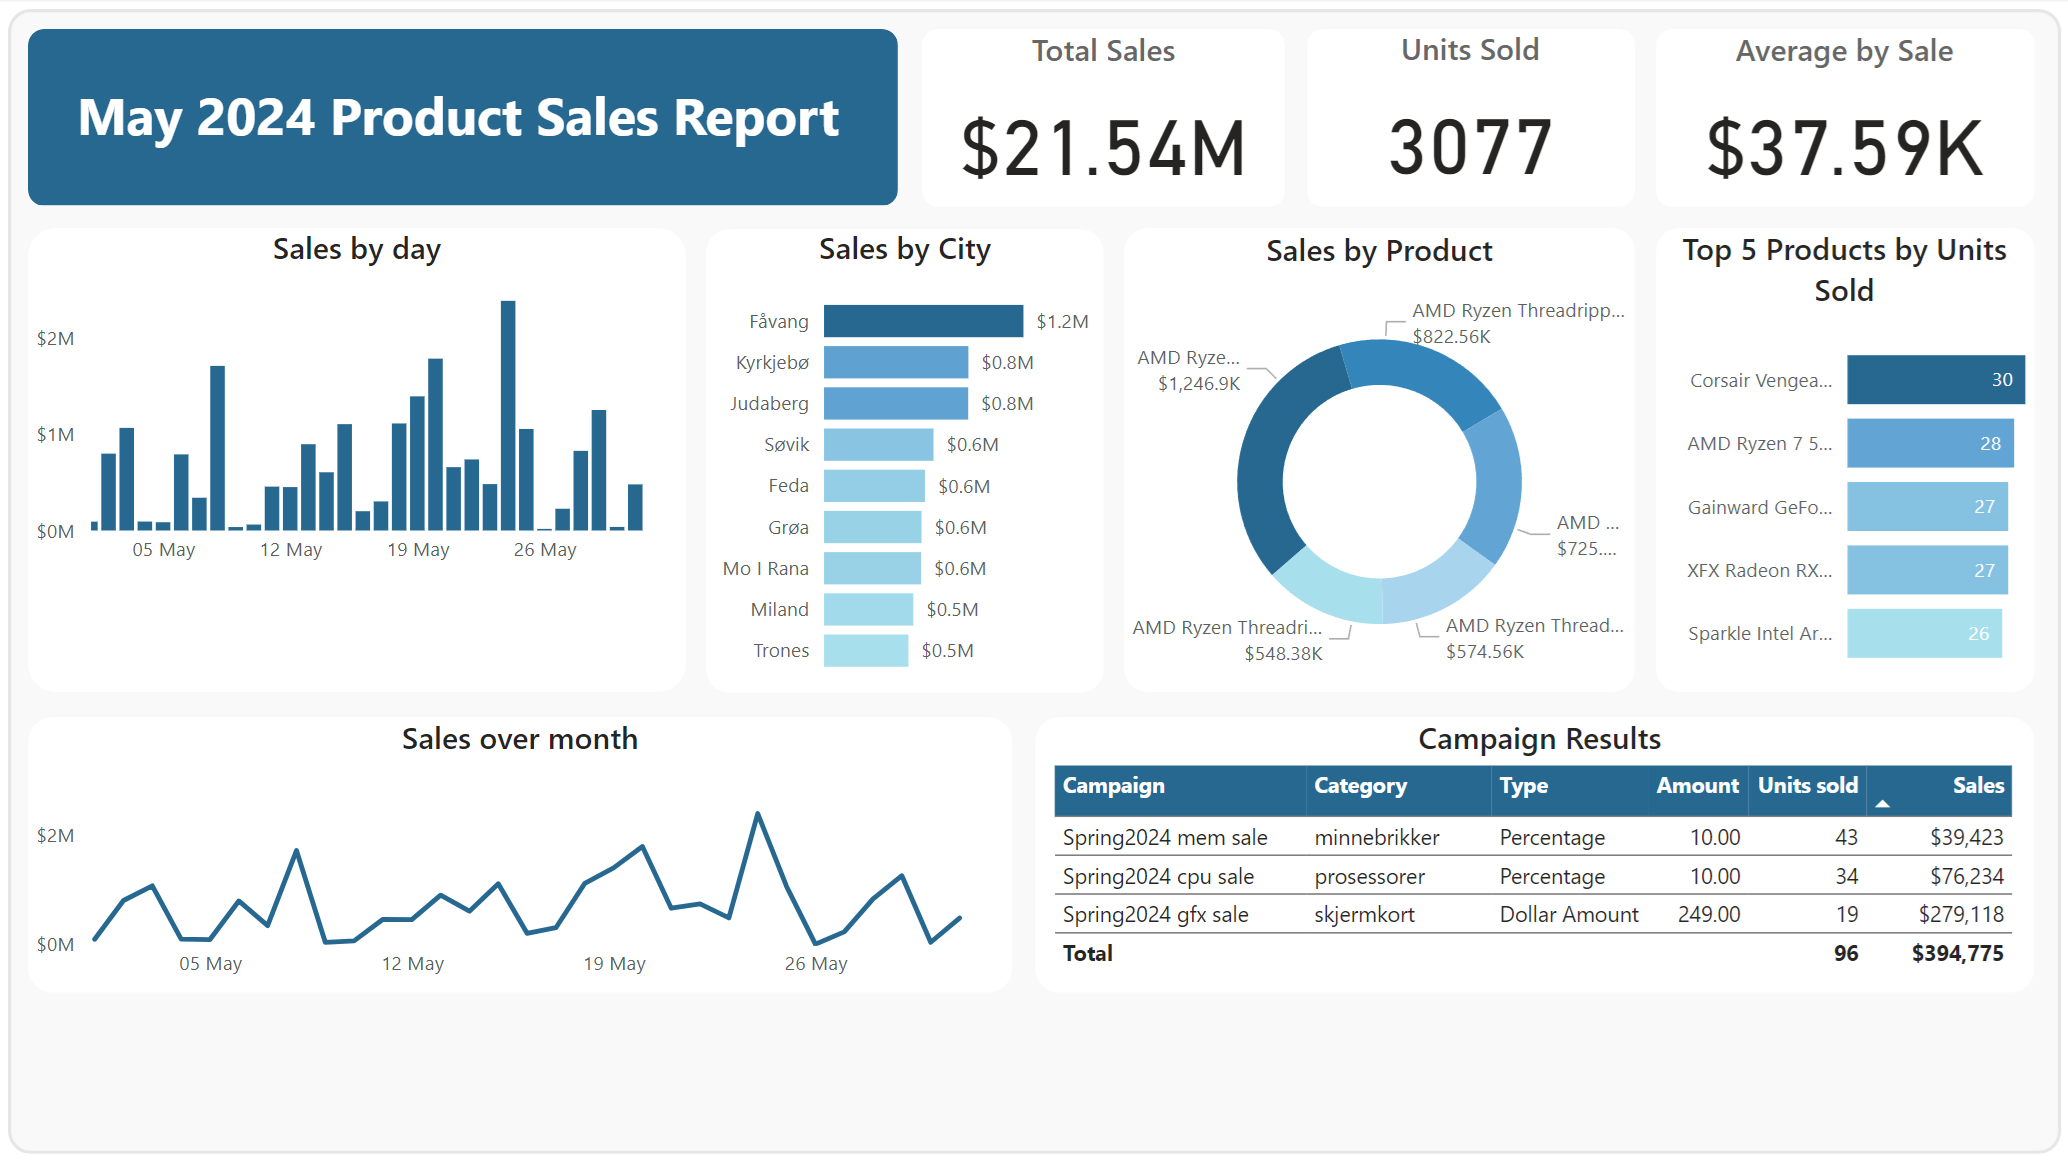

The dashboard page shown, as its layout file describes it:
{"tool":"powerbi","page":{"name":"Overview","canvas":[1280,720],"ordinal":0},"visuals":[{"type":"shape","box":[4.9,5.6,1269.9,710.1],"z":0},{"type":"shape","box":[1028,16.7,235.7,112],"z":500},{"type":"shape","box":[779.4,16.7,235.7,112],"z":750},{"type":"shape","box":[528.9,16.7,235.7,112],"z":875},{"type":"card","title":"Total Sales","fields":{"Values":["Sum(public fact_product_sale.extended_sales_amount)"]},"box":[528.9,16.7,235.7,112],"z":1000},{"type":"card","title":"Units Sold","fields":{"Values":["Sum(public fact_product_sale.quantity)"]},"box":[779.4,16.7,235.7,112],"z":2000},{"type":"card","title":"Average Sales","fields":{"Values":["Avg(public fact_product_sale.extended_sales_amount)"]},"box":[1028,16.7,235.7,112],"z":3000},{"type":"shape","box":[17.8,16.5,496.9,112.3],"z":3500},{"type":"slicer","fields":{"Values":["public dim_date.date.Variation.Date Hierarchy.Year"]},"box":[17.9,27.8,210.3,89.7],"z":4000},{"type":"slicer","fields":{"Values":["public dim_date.date.Variation.Date Hierarchy.Month"]},"box":[243.7,27.8,210.9,89.7],"z":5000},{"type":"shape","box":[467.6,139.2,236.3,287.6],"z":6000},{"type":"clusteredBarChart","title":"Sales by City","fields":{"Category":["public dim_location.city_name"],"Y":["Sum(public fact_product_sale.extended_sales_amount)"]},"box":[467.6,139.8,236.3,287.6],"z":7000},{"type":"shape","box":[1027.4,139.8,236.3,287.6],"z":8000},{"type":"shape","box":[716.9,139.2,298.1,287.6],"z":9000},{"type":"donutChart","title":"Sales by Product","fields":{"Category":["public dim_product.product_name"],"Y":["Sum(public fact_product_sale.extended_sales_amount)"]},"box":[716.9,140.4,298.1,287.6],"z":10000},{"type":"shape","box":[17.9,139.2,436.7,287.6],"z":11000},{"type":"clusteredBarChart","title":"Top 5 Products by Units Sold","fields":{"Category":["public dim_product.product_name"],"Y":["Sum(public fact_product_sale.quantity)"]},"box":[1031.1,139.2,228.2,287.6],"z":12000},{"type":"clusteredColumnChart","title":"Sales by day","fields":{"Y":["Sum(public fact_product_sale.extended_sales_amount)"],"Category":["public dim_date.date"]},"box":[17.9,139.2,436.7,285.8],"z":13000},{"type":"shape","box":[17.9,438.6,616.1,183.7],"z":14000},{"type":"shape","box":[647,438.6,616.7,183.7],"z":15000},{"type":"lineChart","title":"Sales over month","fields":{"Y":["Sum(public fact_product_sale.extended_sales_amount)"],"Category":["public dim_date.date"]},"box":[17.9,438.6,616.1,183.7],"z":16000},{"type":"tableEx","title":"Campaign Results","fields":{"Values":["public dim_discount.discount_name","public dim_product.product_category","public dim_discount.discount_type","public dim_discount.discount_amount","Sum(public fact_product_sale.quantity)","Sum(public fact_product_sale.extended_sales_amount)"]},"box":[655.1,438.6,608.7,183.7],"z":17000}]}

Visuals, with their boxes in screenshot pixels (x1, y1, x2, y2), scaled from the page's 1280x720 canvas onto the 2068x1164 screenshot:
shape: 8,9,2060,1157
shape: 1661,27,2042,208
shape: 1259,27,1640,208
shape: 855,27,1235,208
"Total Sales" card: 855,27,1235,208
"Units Sold" card: 1259,27,1640,208
"Average Sales" card: 1661,27,2042,208
shape: 29,27,832,208
slicer - public dim_date.date.Variation.Date Hierarchy.Year: 29,45,369,190
slicer - public dim_date.date.Variation.Date Hierarchy.Month: 394,45,734,190
shape: 755,225,1137,690
"Sales by City" clusteredBarChart: 755,226,1137,691
shape: 1660,226,2042,691
shape: 1158,225,1640,690
"Sales by Product" donutChart: 1158,227,1640,692
shape: 29,225,734,690
"Top 5 Products by Units Sold" clusteredBarChart: 1666,225,2035,690
"Sales by day" clusteredColumnChart: 29,225,734,687
shape: 29,709,1024,1006
shape: 1045,709,2042,1006
"Sales over month" lineChart: 29,709,1024,1006
"Campaign Results" tableEx: 1058,709,2042,1006
